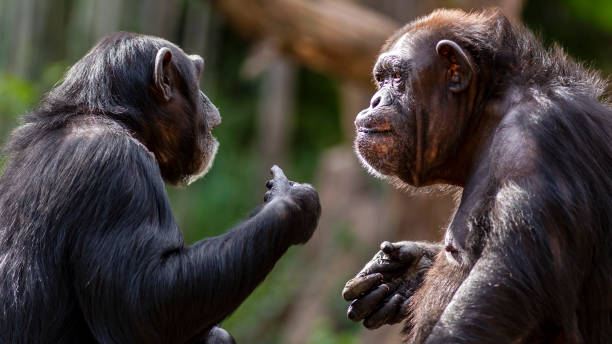chimpanzee: (347, 5, 553, 206)
